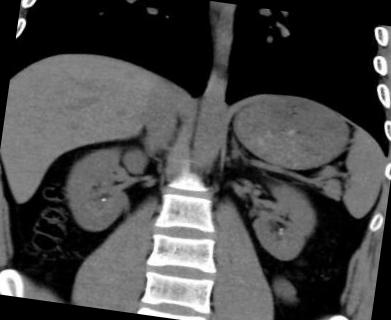Tas_Var: (98, 196, 107, 203), (278, 227, 284, 231), (278, 230, 282, 234)
